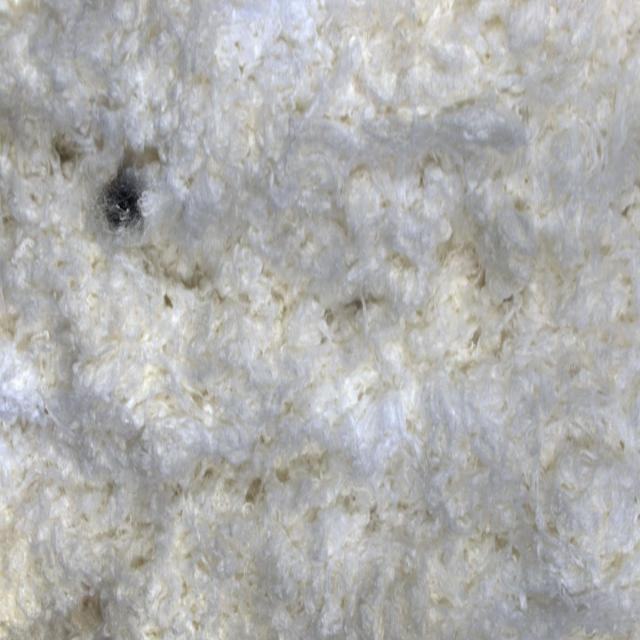dust: (81, 129, 174, 276)
